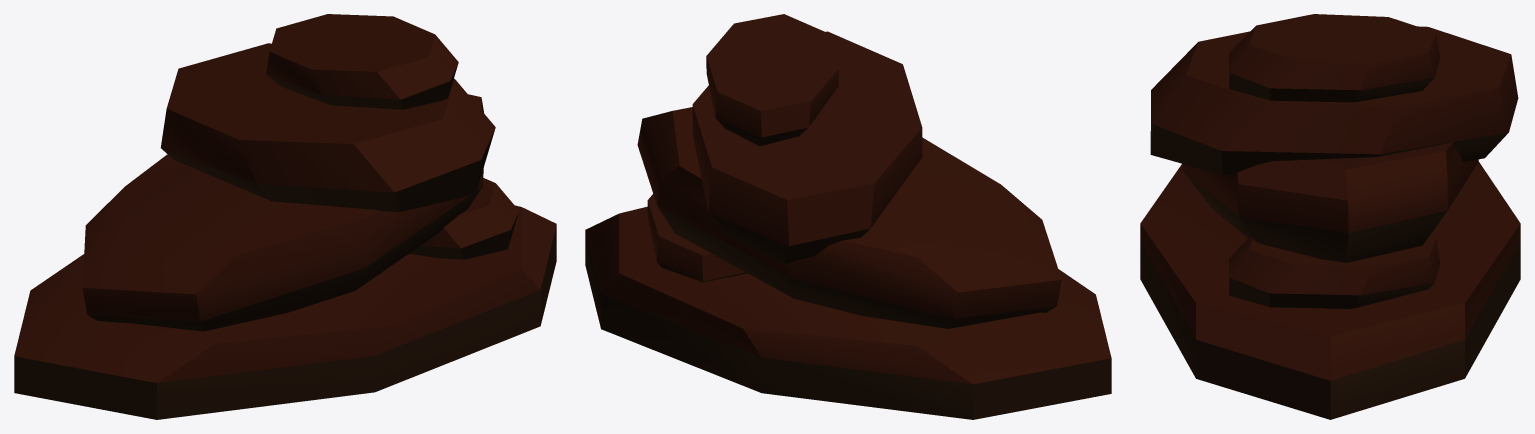
Rendered from Piedra3.fbx.
3 views of the same model, side by side, from view 1: azimuth 30°, elevation 25°; view 2: azimuth 150°, elevation 25°; view 3: azimuth 270°, elevation 25° (orthographic). The views are drawn at different scales.
Parts seen in each view (by area): view 1: Mesh; view 2: Mesh; view 3: Mesh.
Part boxes in pixels (box(x1,y1,x2,y2)): Mesh: box(14, 14, 556, 419); Mesh: box(585, 14, 1111, 419); Mesh: box(1140, 14, 1520, 419).
Size of the model in its own units: 224 by 107 by 128.
